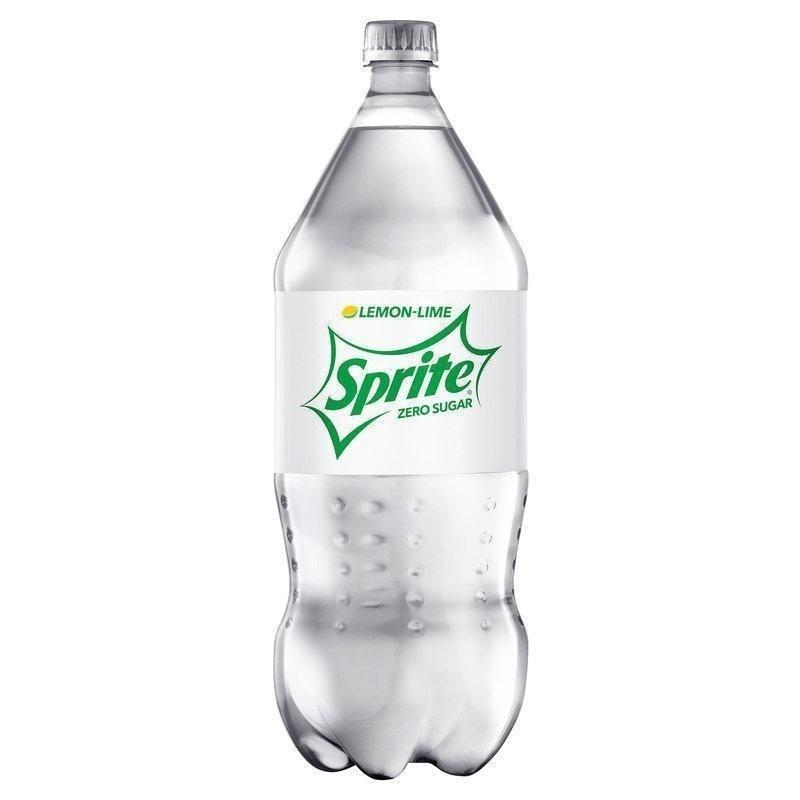bottle-plastic: (264, 9, 535, 788)
